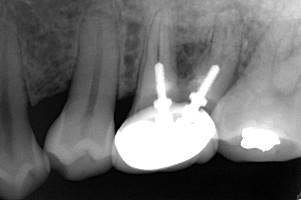Endo-Periodontal Lesion: (175, 40, 211, 79)
